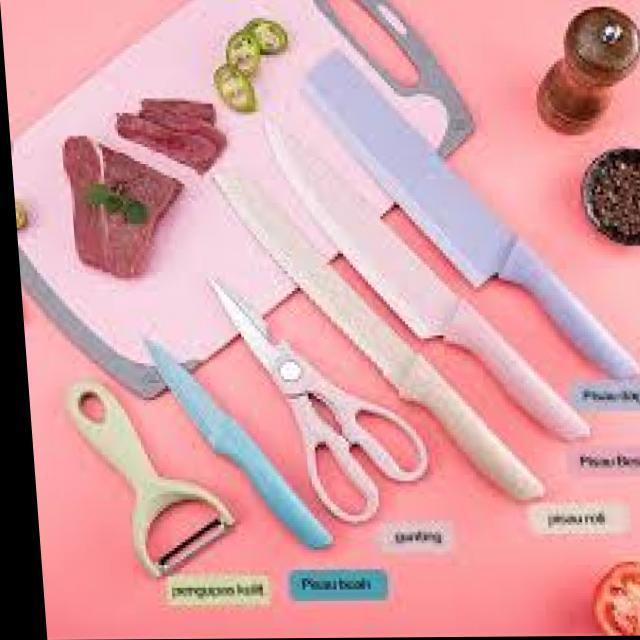knife: (301, 48, 640, 393), (209, 168, 545, 505), (259, 119, 592, 447), (142, 337, 332, 556)
